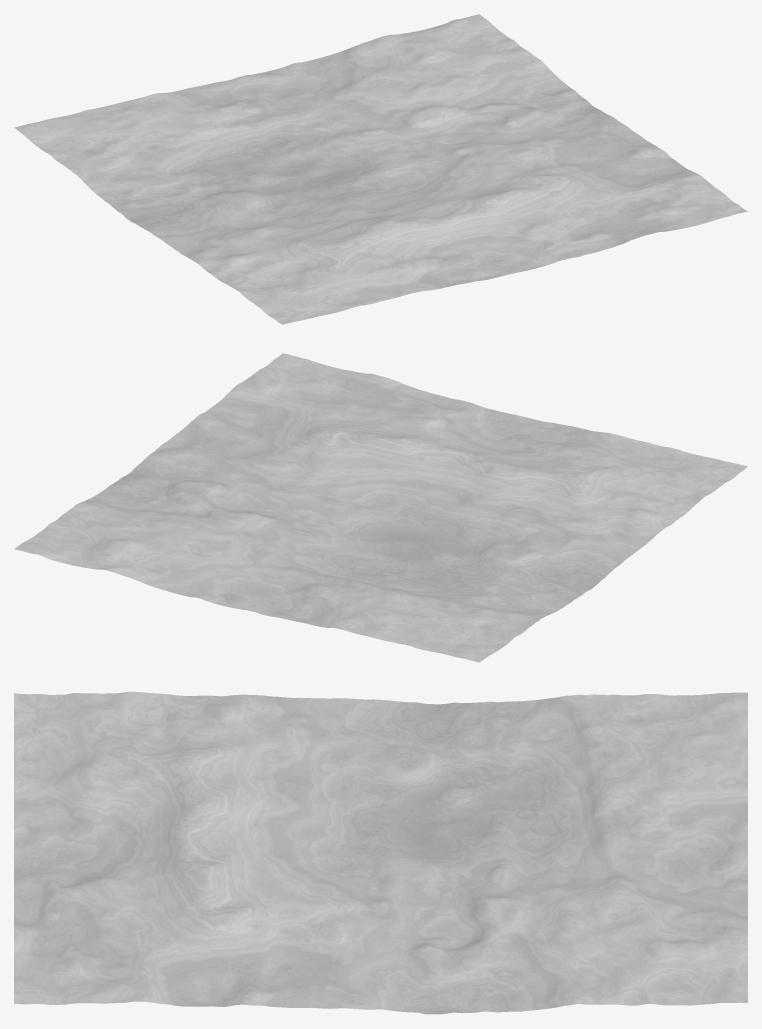
File: rock1.fbx
3 views of the same model, one above another, from view 1: azimuth 30°, elevation 25°; view 2: azimuth 150°, elevation 25°; view 3: azimuth 270°, elevation 25° (orthographic). The views are drawn at different scales.
Visible parts, largest first — view 1: rock1; view 2: rock1; view 3: rock1.
Part boxes in pixels (left/top/right/bottom): rock1: left=14, top=14, right=747, bottom=324; rock1: left=14, top=353, right=747, bottom=662; rock1: left=14, top=691, right=747, bottom=1014.
Size of the model in its own units: 10000 by 349 by 10000.
1 material, 1 textured.
